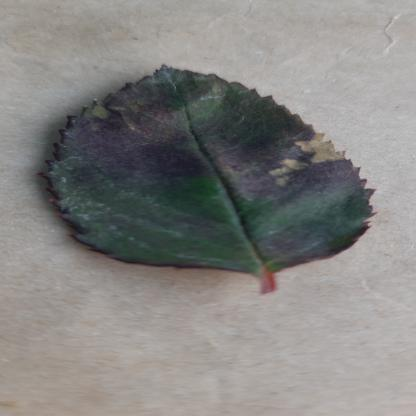downy-mildew: (40, 67, 380, 274)
